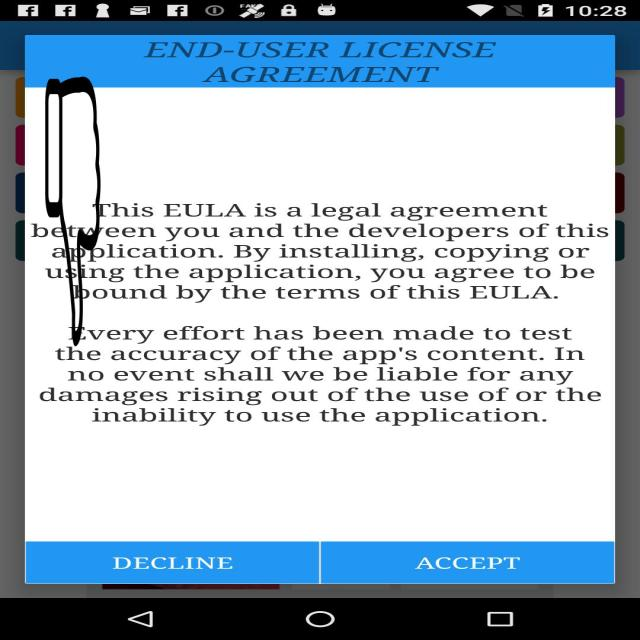obstruction: (44, 77, 102, 346)
